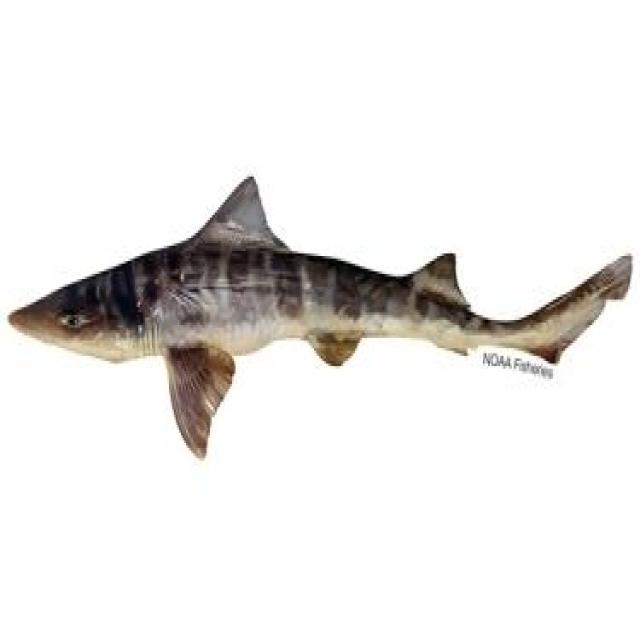gaviota: (9, 177, 631, 456)
